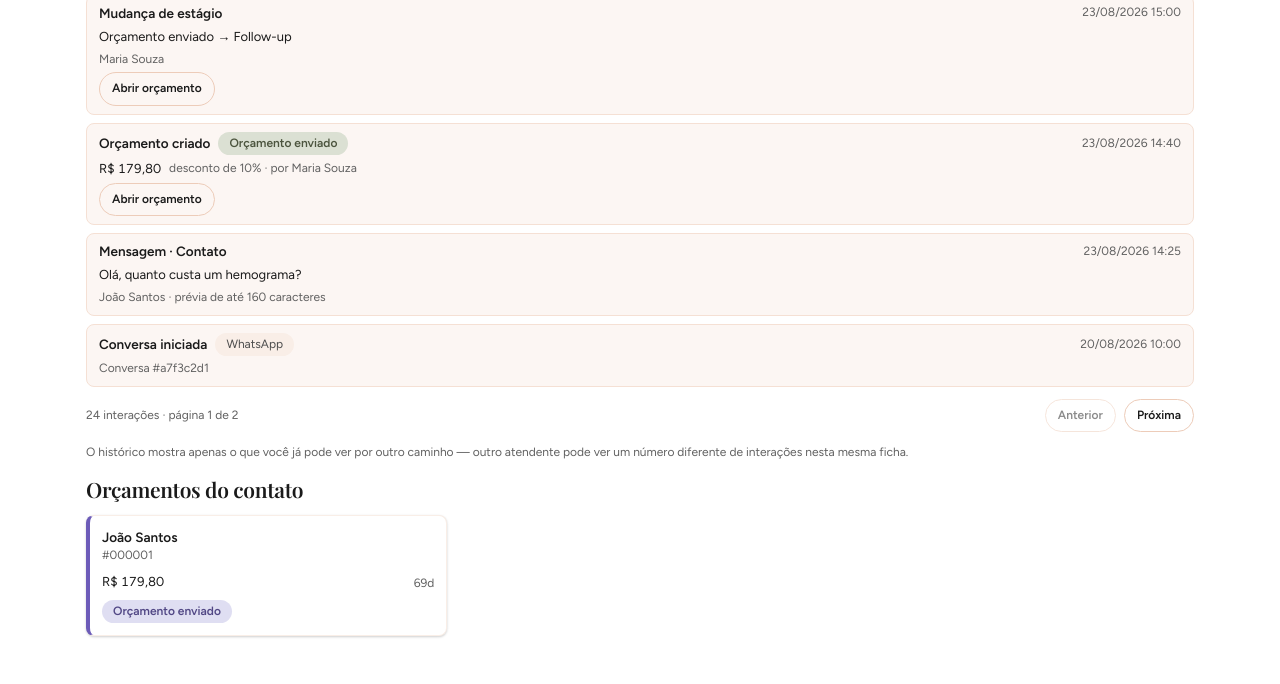
Test: Ficha do Paciente › avança a paginação da timeline pedindo a página 2 ao servidor
The image size is (1280, 684).
(page scrolled)
expect the text "24 interações · página 1 de 2" is shown: met, box [86,407,238,424]
Step 1. Click the button "Próxima" → (1159, 415), box [1124,399,1194,432]
(page scrolled)
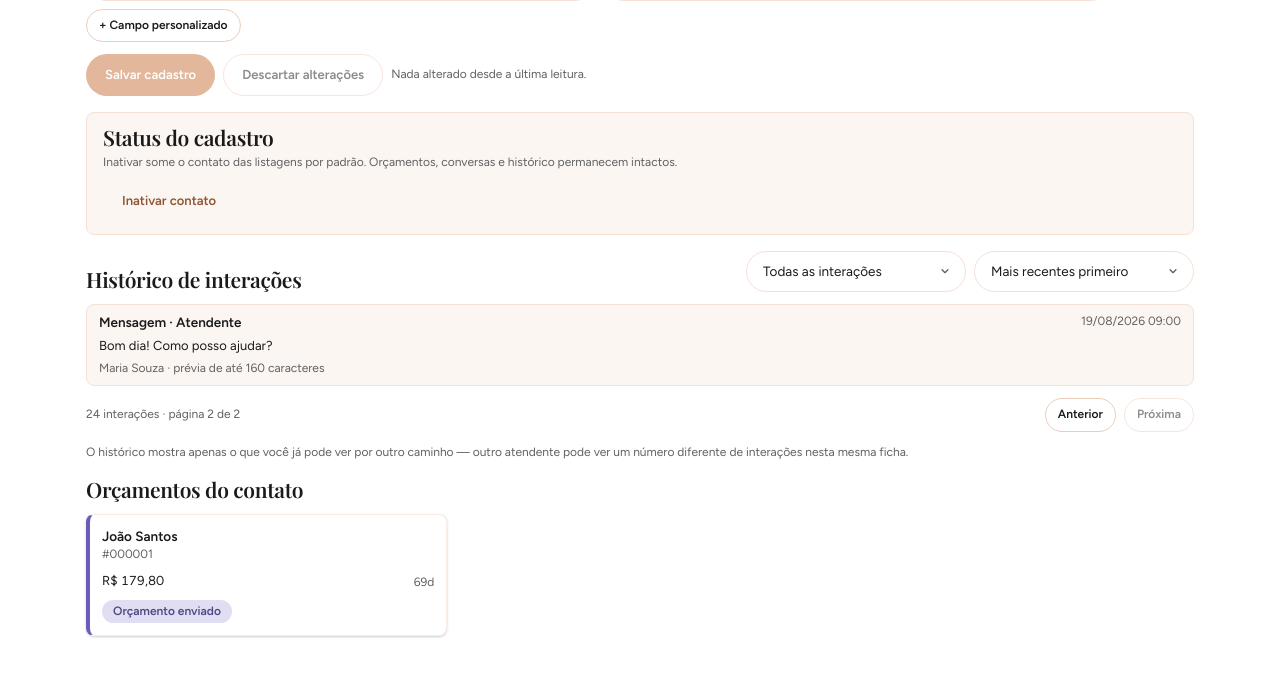
expect the text "Bom dia! Como posso ajudar?" is shown: met, box [99,338,272,353]
expect the text "24 interações · página 2 de 2" is shown: met, box [86,406,240,424]
expect the text "Olá, quanto custa um hemograma?" is gone: met
